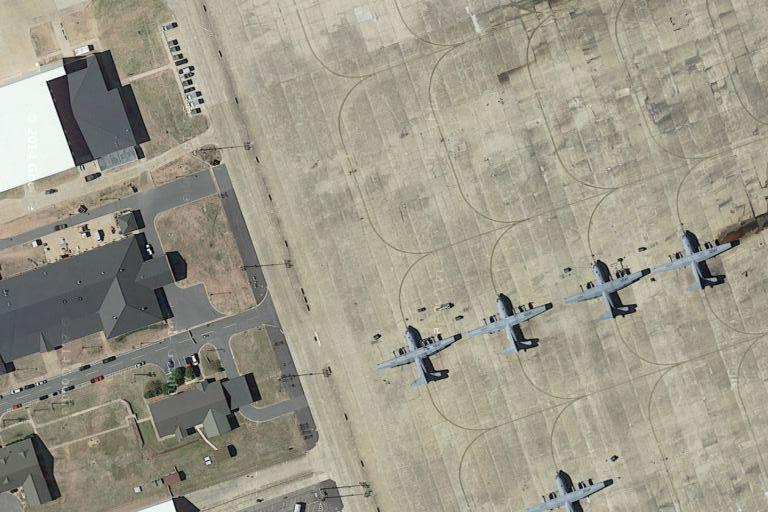C-130: (567, 255, 652, 329), (654, 224, 737, 296), (376, 324, 461, 394), (473, 292, 557, 361)
